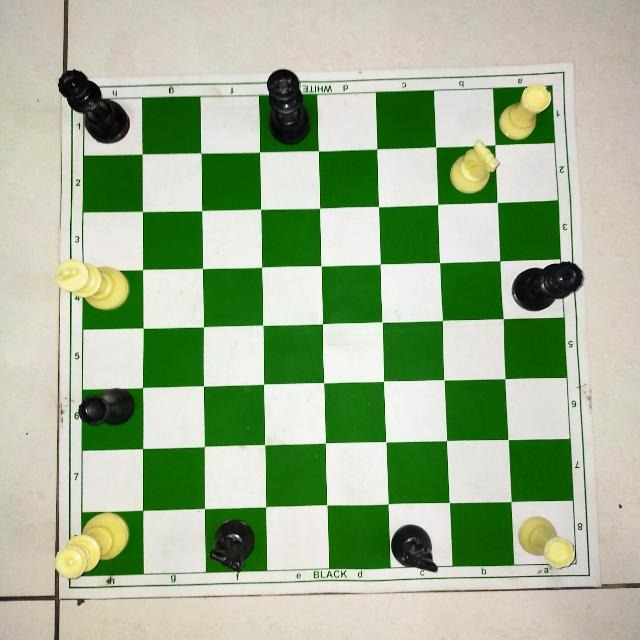black-king: (265, 68, 311, 146)
black-knight: (390, 520, 442, 576), (207, 517, 256, 575)
black-queen: (56, 67, 133, 144), (510, 258, 585, 314)
black-rook: (76, 386, 137, 428)
white-king: (49, 259, 131, 315)
white-knight: (445, 138, 501, 200)
white-queen: (56, 510, 133, 584)
white-rook: (516, 513, 578, 571), (497, 83, 553, 141)
